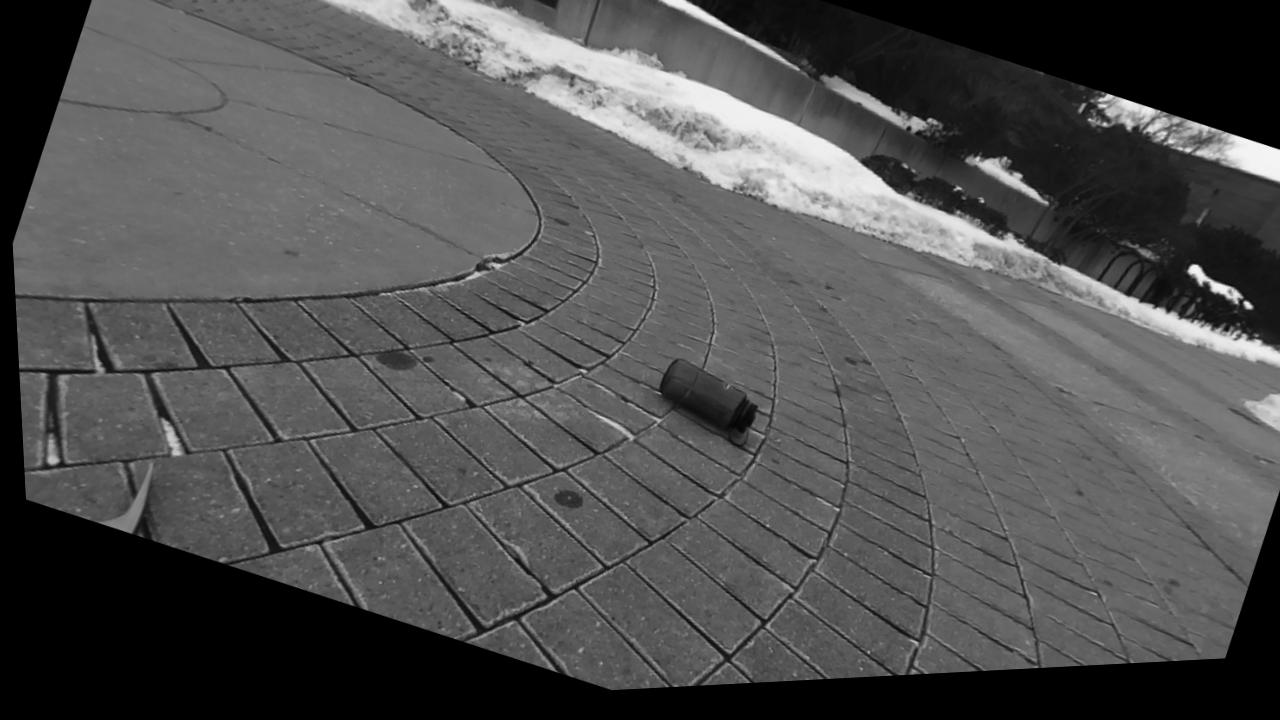bottle: (659, 359, 757, 434)
